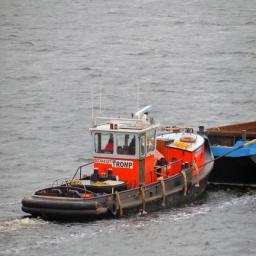tugboat: (20, 80, 217, 227)
